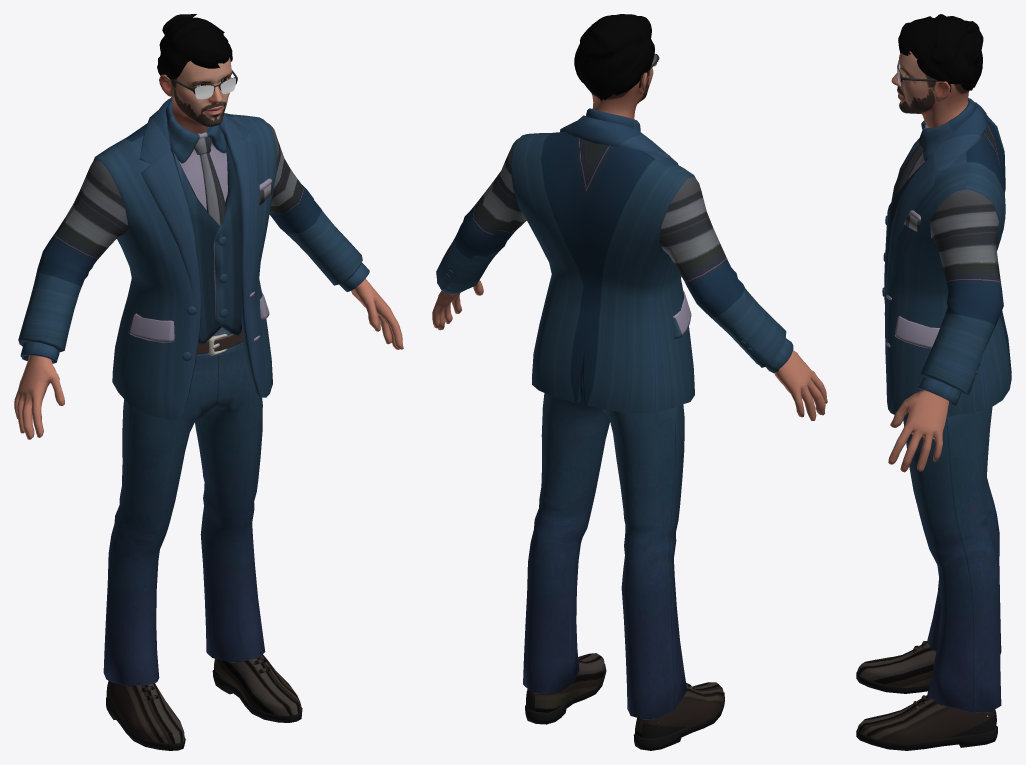
Rendered from Avatar.fbx.
3 renders of one model, left to right at view 1: azimuth 30°, elevation 25°; view 2: azimuth 150°, elevation 25°; view 3: azimuth 270°, elevation 25°, orthographic.
Parts seen in each view (by area): view 1: Wolf3D_Outfit_Top, Wolf3D_Outfit_Bottom, Wolf3D_Outfit_Footwear, Wolf3D_Body, Wolf3D_Hair, Wolf3D_Head; view 2: Wolf3D_Outfit_Top, Wolf3D_Outfit_Bottom, Wolf3D_Outfit_Footwear, Wolf3D_Hair, Wolf3D_Body, Wolf3D_Head; view 3: Wolf3D_Outfit_Top, Wolf3D_Outfit_Bottom, Wolf3D_Outfit_Footwear, Wolf3D_Hair, Wolf3D_Body, Wolf3D_Head.
Part boxes in pixels (x1,y1,x2,y2): Wolf3D_Outfit_Top: (18,97,369,419); Wolf3D_Outfit_Bottom: (103,329,265,686); Wolf3D_Outfit_Footwear: (106,653,302,750); Wolf3D_Body: (14,278,403,439); Wolf3D_Hair: (157,14,232,79); Wolf3D_Head: (159,57,231,133); Wolf3D_Outfit_Top: (436,108,793,413); Wolf3D_Outfit_Bottom: (523,393,686,719); Wolf3D_Outfit_Footwear: (525,653,724,750); Wolf3D_Hair: (574,14,654,101); Wolf3D_Body: (432,280,827,722); Wolf3D_Head: (591,63,653,119); Wolf3D_Outfit_Top: (882,98,1011,418); Wolf3D_Outfit_Bottom: (903,406,1001,712); Wolf3D_Outfit_Footwear: (856,641,997,750); Wolf3D_Hair: (898,14,983,90); Wolf3D_Body: (888,390,988,716); Wolf3D_Head: (891,51,969,127).
Bounding box in the file's own units: 1.06 × 1.86 × 0.3773.
9 materials, 9 textured.
